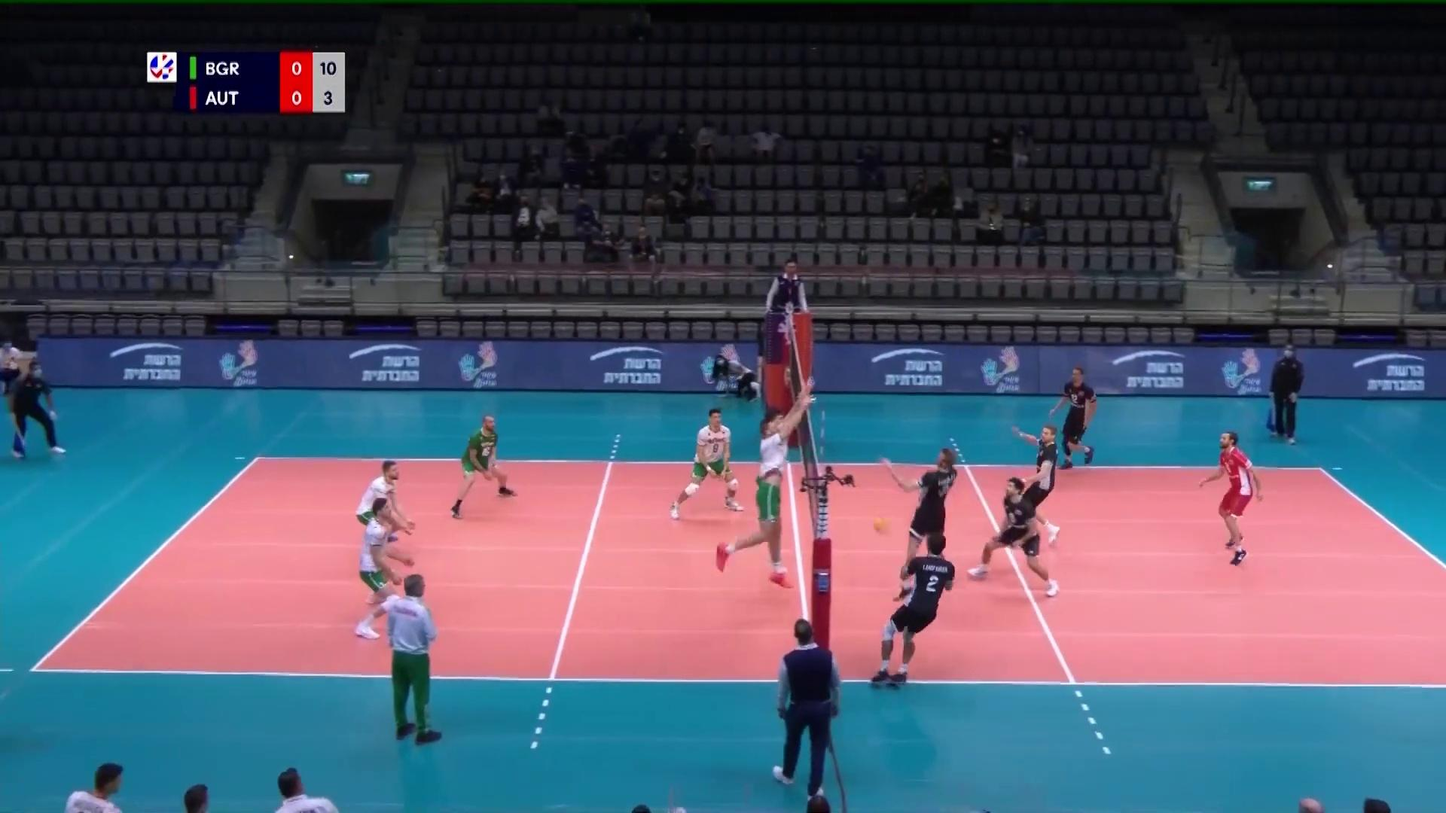ball: (872, 517, 888, 534)
